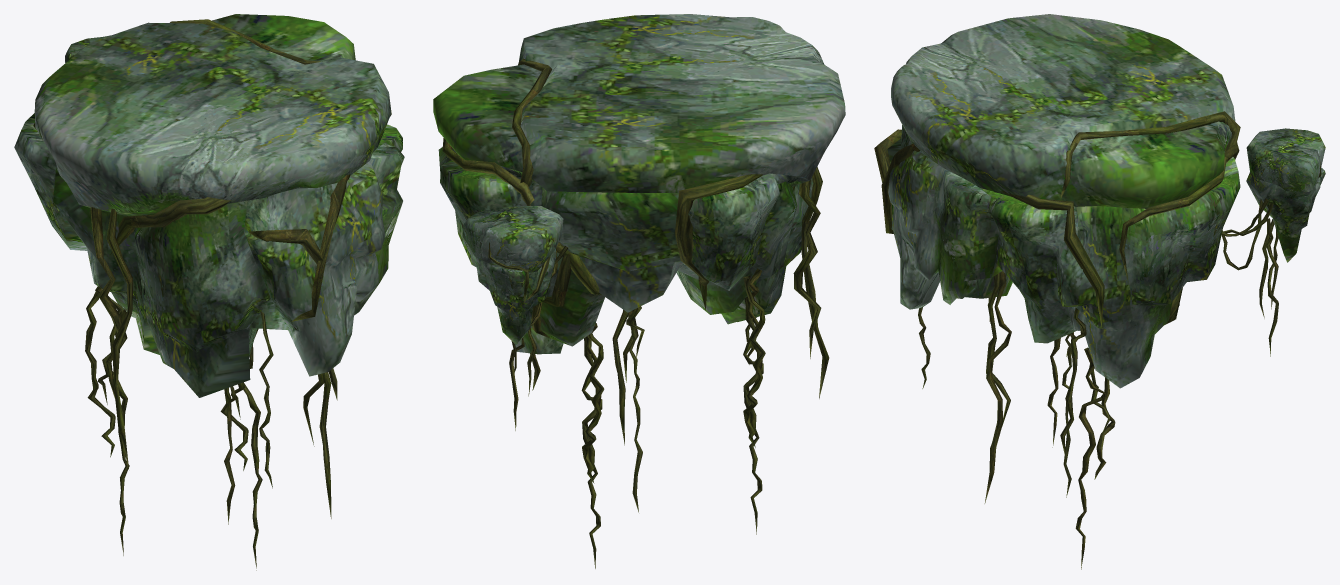
File: environment_Building_bangpai_001_c.FBX
3 views of the same model, side by side, from view 1: azimuth 30°, elevation 25°; view 2: azimuth 150°, elevation 25°; view 3: azimuth 270°, elevation 25° (orthographic). The views are drawn at different scales.
Parts seen in each view (by area): view 1: environment_Building_bangpai_001_c02, environment_Building_bangpai_001_c01, environment_Building_bangpai_001_c03; view 2: environment_Building_bangpai_001_c02, environment_Building_bangpai_001_c01, environment_Building_bangpai_001_c03; view 3: environment_Building_bangpai_001_c02, environment_Building_bangpai_001_c01, environment_Building_bangpai_001_c03.
Boxes of the visible parts, x1,y1,x2,y2 form: environment_Building_bangpai_001_c02: (34, 14, 391, 213); environment_Building_bangpai_001_c01: (14, 113, 404, 397); environment_Building_bangpai_001_c03: (33, 19, 350, 570); environment_Building_bangpai_001_c02: (433, 14, 845, 272); environment_Building_bangpai_001_c01: (438, 147, 813, 354); environment_Building_bangpai_001_c03: (442, 58, 829, 568); environment_Building_bangpai_001_c02: (891, 14, 1325, 208); environment_Building_bangpai_001_c01: (887, 125, 1325, 388); environment_Building_bangpai_001_c03: (874, 111, 1321, 569).
Size of the model in its own units: 966 by 1187 by 1349.
